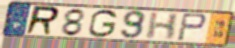8: (60, 7, 87, 38)
9: (119, 9, 147, 40)
G: (86, 8, 119, 39)
H: (144, 12, 182, 41)
P: (175, 12, 208, 43)
R: (23, 5, 62, 36)
